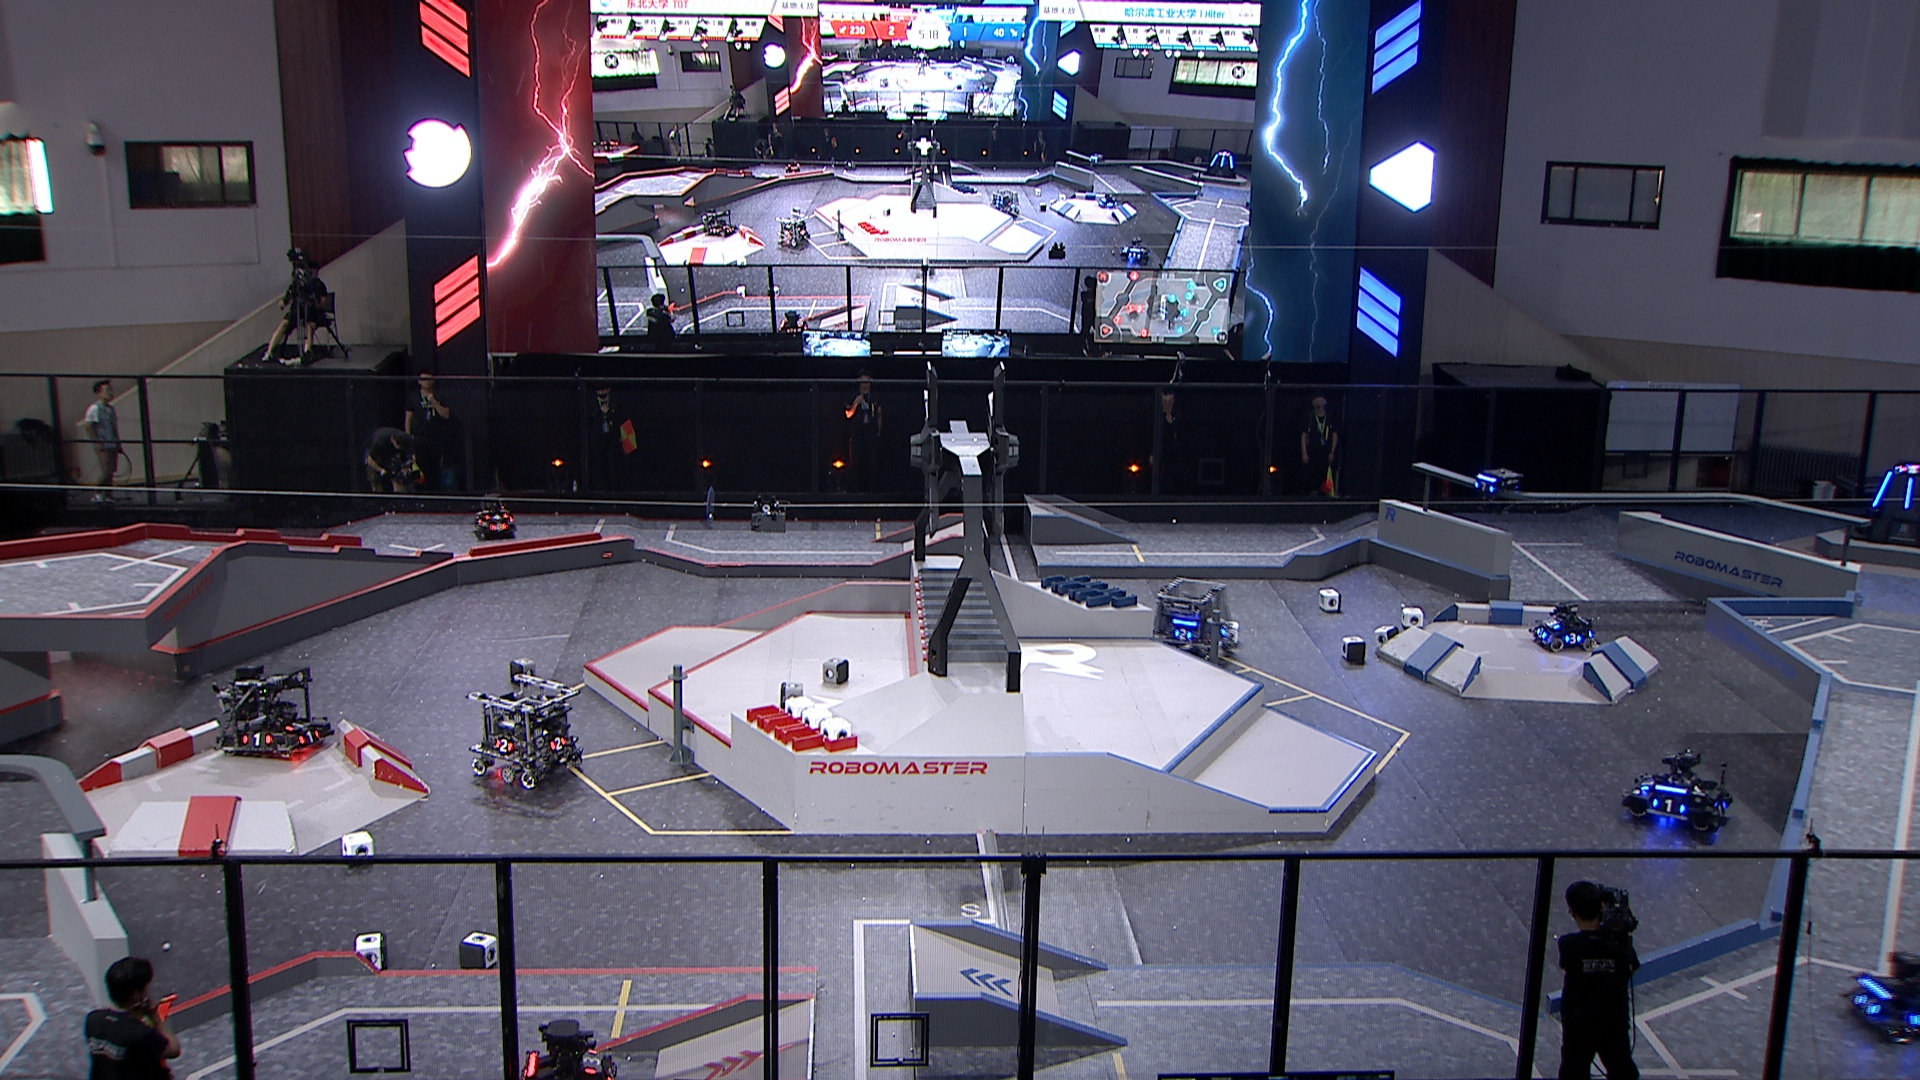armor: (1871, 469, 1894, 505), (1855, 994, 1882, 1019), (1655, 798, 1684, 818), (237, 731, 269, 746), (1902, 477, 1915, 514), (584, 1048, 603, 1073), (1472, 479, 1495, 495), (299, 727, 320, 744), (495, 737, 513, 756), (285, 717, 306, 733), (1636, 777, 1655, 793), (551, 735, 566, 750), (1717, 800, 1727, 820), (1534, 626, 1548, 640), (489, 520, 505, 531), (1220, 622, 1232, 638), (485, 510, 505, 520), (1174, 628, 1191, 638), (1564, 632, 1580, 642), (605, 1060, 615, 1077), (1545, 618, 1557, 628)
base: (1847, 456, 1920, 550)
car: (465, 670, 585, 790), (212, 662, 335, 760), (1626, 745, 1735, 836), (1145, 576, 1240, 670), (512, 1021, 628, 1080), (1844, 951, 1920, 1040), (1524, 599, 1596, 655), (472, 493, 522, 545)
ignore: (775, 214, 808, 252), (698, 207, 736, 239), (1203, 149, 1238, 179), (988, 191, 1021, 223), (1121, 237, 1150, 266), (778, 311, 804, 334), (1097, 190, 1120, 210), (1898, 462, 1920, 477), (783, 158, 802, 177), (1088, 150, 1105, 166)
watcher: (1466, 454, 1523, 513)
